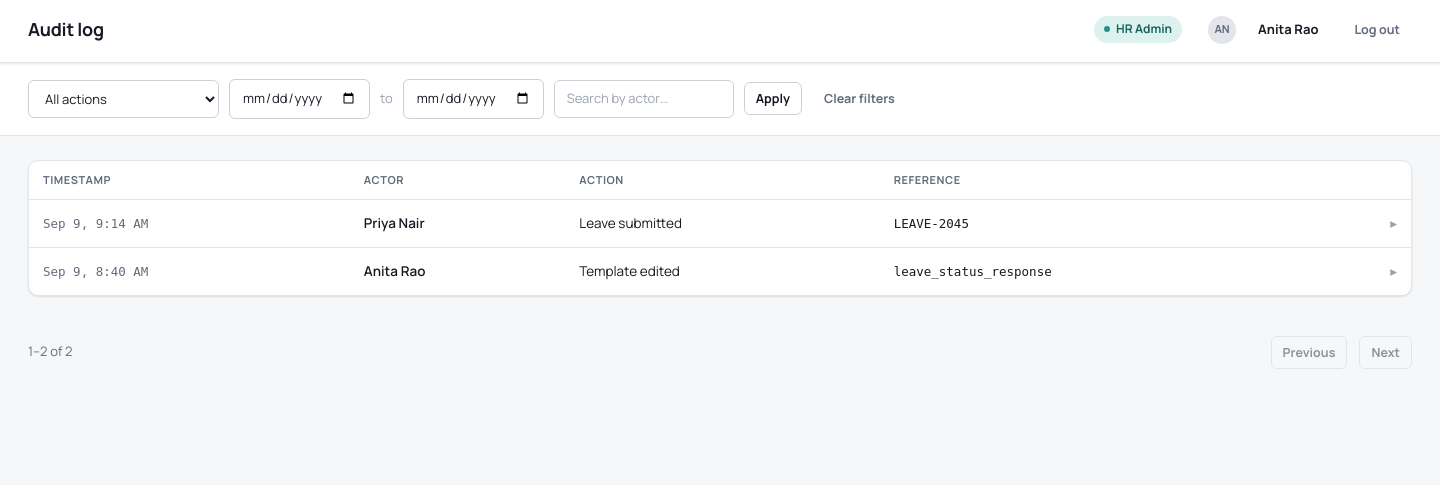
Test case: Audit Log page › expands a row to show JSONB details on click
What coordinates should you click on to do the following:
click the text "Priya Nair"
I would click on:
 (458, 224)
Its box is x1=350 y1=200 x2=565 y2=248.
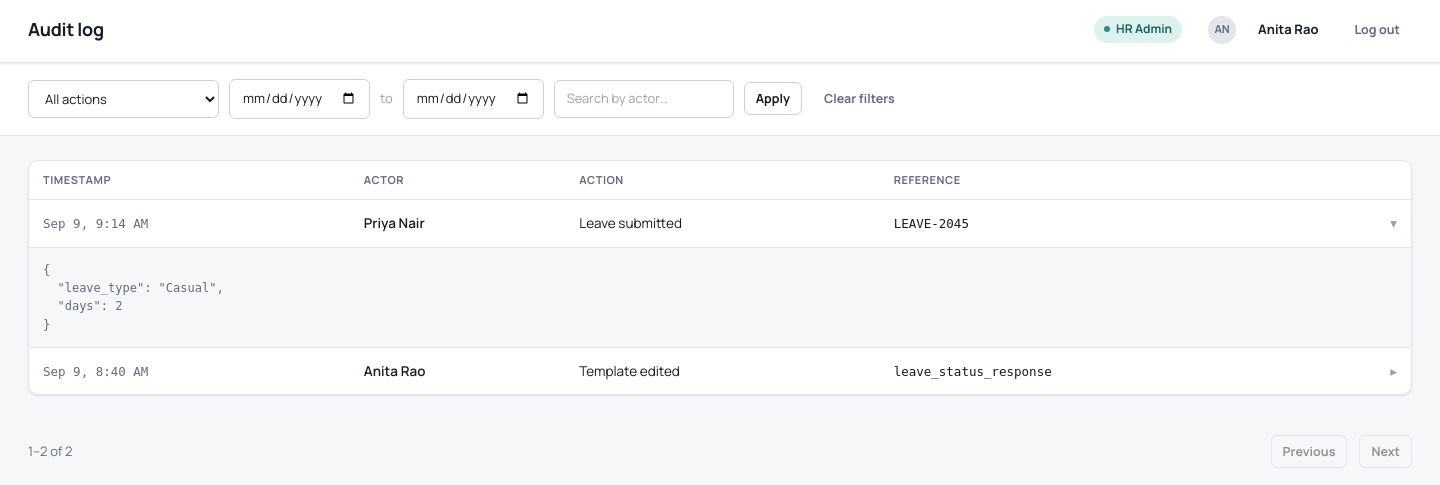
expect the row with test id "detail-l1" is shown: met, box x1=29 y1=248 x2=1411 y2=347
expect the text "{ \"leave_type\": \"Casual\", \"days\": 2 }" is shown: met, box x1=43 y1=263 x2=224 y2=332
